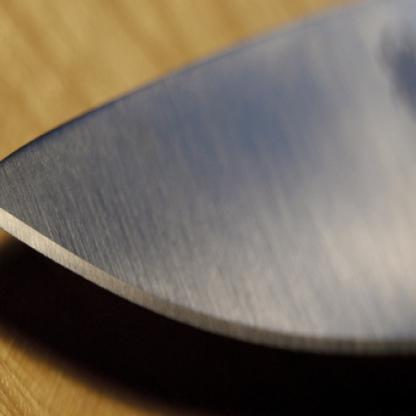knife: (0, 0, 415, 341)
